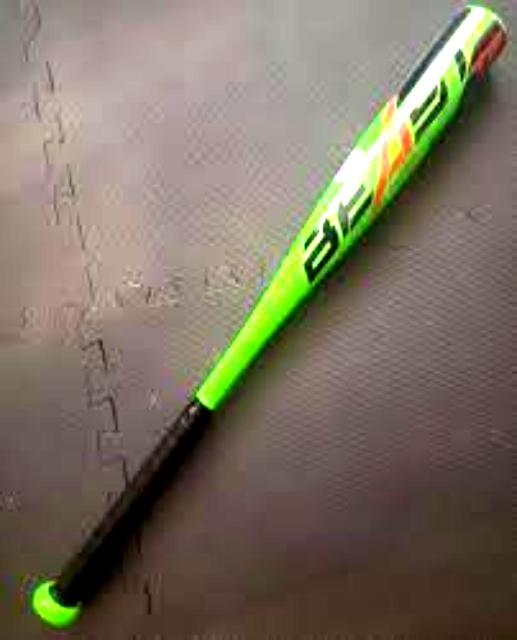baseball bat: (27, 7, 512, 621)
